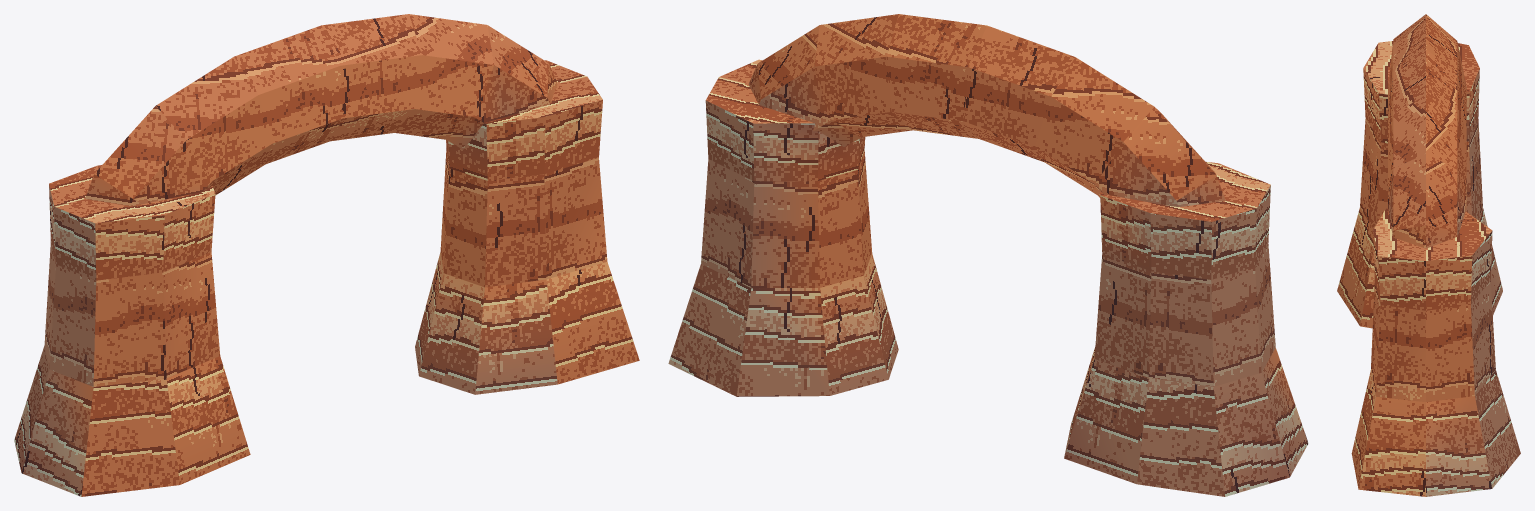
Rendered from wland.arch.glb.
3 views of the same model, side by side, from view 1: azimuth 30°, elevation 25°; view 2: azimuth 150°, elevation 25°; view 3: azimuth 270°, elevation 25° (orthographic). The views are drawn at different scales.
Parts seen in each view (by area): view 1: kit_legs, kit_span; view 2: kit_legs, kit_span; view 3: kit_legs, kit_span.
Boxes of the visible parts, left/top/right/bottom form: kit_legs: left=14, top=60, right=639, bottom=496; kit_span: left=85, top=14, right=557, bottom=206; kit_legs: left=668, top=59, right=1308, bottom=496; kit_span: left=748, top=14, right=1225, bottom=206; kit_legs: left=1337, top=41, right=1520, bottom=496; kit_span: left=1388, top=14, right=1466, bottom=248.
Bounding box in the file's own units: 15.44 × 9.27 × 4.78.
Materials: 3 (3 with a texture image).
